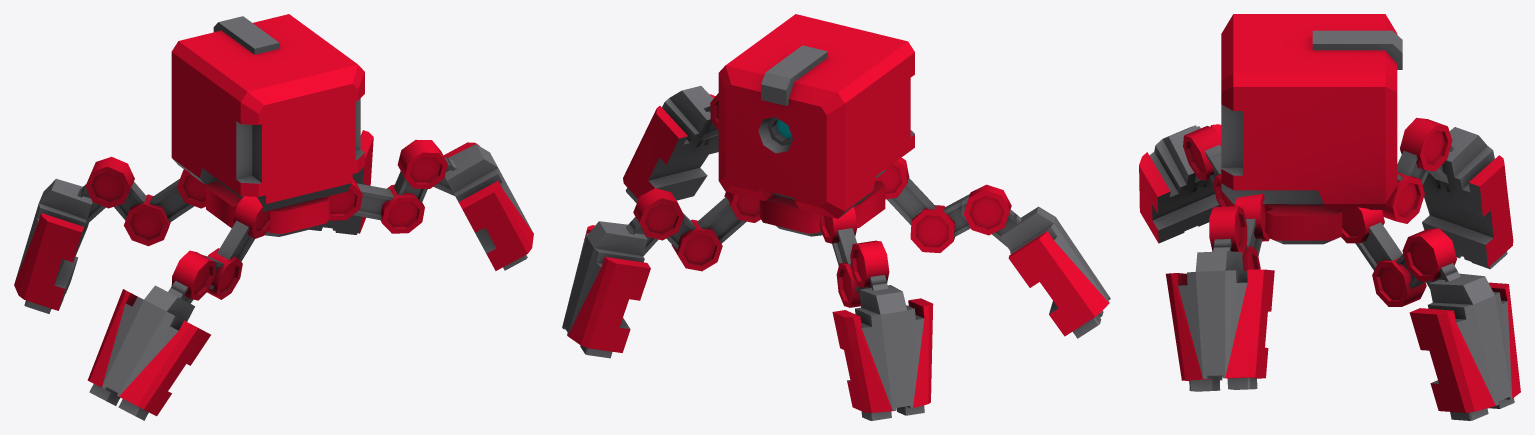
Rendered from Monster1_Move25.obj.
3 renders of one model, left to right at view 1: azimuth 30°, elevation 25°; view 2: azimuth 150°, elevation 25°; view 3: azimuth 270°, elevation 25°, orthographic. The views are drawn at different scales.
Visible parts, largest first — view 1: Box006, Object021, Object025, Object017, Object020, Object028, Object027, Object022, Object019, Object018, Object024, Object026 (+2 smaller); view 2: Box006, Object025, Object013, Object021, Object017, Object016, Object023, Object024, Object015, Object022, Object014, Object028 (+2 smaller); view 3: Box006, Object017, Object013, Object025, Object021, Object016, Object014, Object028, Object027, Object015, Object020, Object024 (+3 smaller).
Part boxes in pixels (bbox=[...]): Box006: bbox=[171, 14, 364, 236]; Object021: bbox=[87, 285, 210, 420]; Object025: bbox=[14, 178, 92, 313]; Object017: bbox=[443, 142, 533, 270]; Object020: bbox=[397, 139, 457, 195]; Object028: bbox=[77, 156, 134, 224]; Object027: bbox=[114, 182, 170, 246]; Object022: bbox=[217, 196, 275, 261]; Object019: bbox=[380, 171, 427, 233]; Object018: bbox=[324, 178, 394, 220]; Object024: bbox=[168, 250, 215, 303]; Object026: bbox=[149, 169, 218, 222]; Box006: bbox=[718, 14, 914, 236]; Object025: bbox=[832, 285, 933, 420]; Object013: bbox=[562, 221, 650, 358]; Object021: bbox=[1000, 206, 1110, 338]; Object017: bbox=[623, 86, 718, 203]; Object016: bbox=[625, 188, 684, 256]; Object023: bbox=[910, 194, 970, 252]; Object024: bbox=[963, 184, 1021, 246]; Object015: bbox=[666, 213, 722, 271]; Object022: bbox=[875, 157, 935, 225]; Object014: bbox=[697, 192, 760, 243]; Object028: bbox=[850, 240, 889, 290]; Box006: bbox=[1221, 14, 1402, 244]; Object017: bbox=[1166, 251, 1274, 391]; Object013: bbox=[1409, 273, 1520, 420]; Object025: bbox=[1422, 127, 1513, 269]; Object021: bbox=[1139, 124, 1221, 243]; Object016: bbox=[1402, 228, 1460, 288]; Object014: bbox=[1338, 207, 1402, 270]; Object028: bbox=[1400, 117, 1454, 183]; Object027: bbox=[1382, 151, 1428, 223]; Object015: bbox=[1372, 254, 1426, 306]; Object020: bbox=[1209, 206, 1247, 255]; Object024: bbox=[1183, 126, 1221, 182].
Bounding box in the file's own units: 192 × 113 × 128.
